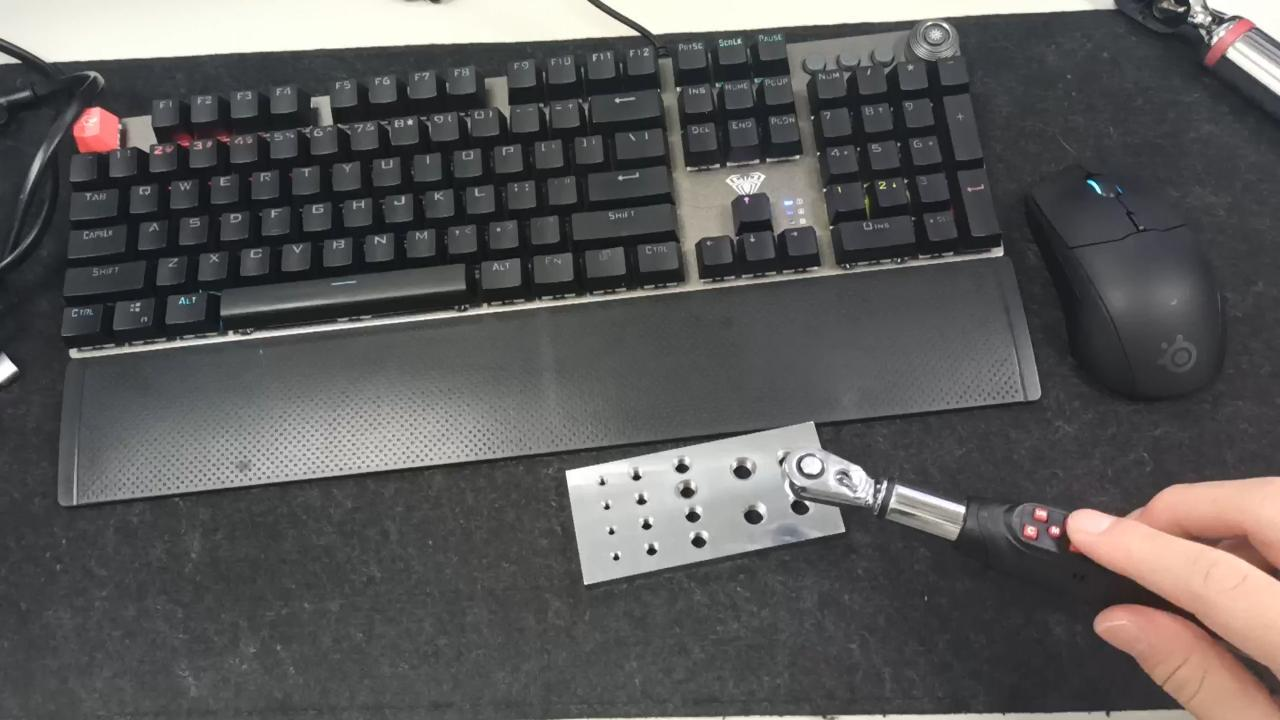Tool: (781, 444, 888, 512)
hole: (593, 474, 613, 488), (601, 498, 615, 512), (605, 523, 617, 539)
